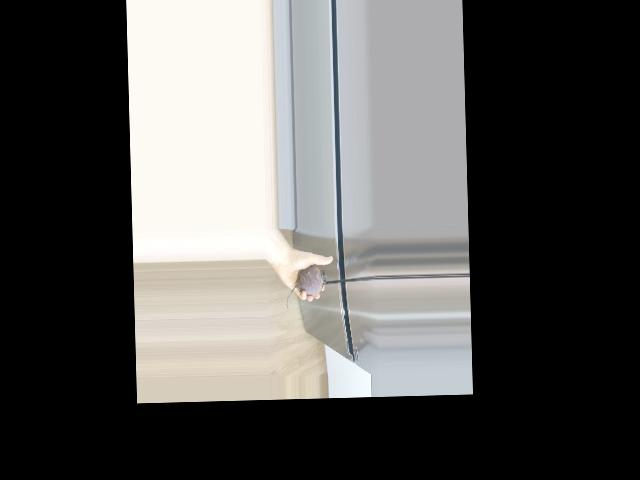beet: (285, 264, 327, 310)
